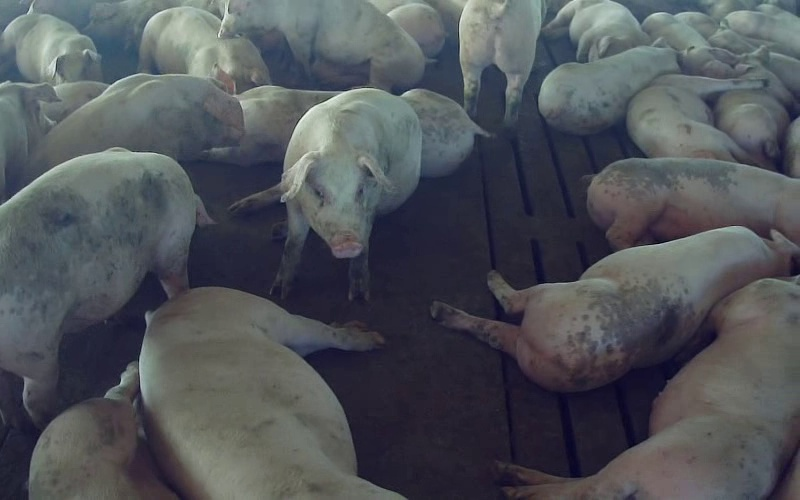pig: (500, 279, 799, 499), (431, 227, 799, 390), (0, 148, 210, 425), (139, 287, 403, 499), (271, 88, 420, 299), (28, 73, 243, 178), (587, 158, 799, 248), (219, 0, 424, 90), (538, 38, 679, 134), (626, 74, 765, 164), (139, 7, 270, 93), (459, 0, 544, 127), (715, 50, 794, 169), (543, 0, 650, 61), (642, 12, 734, 78)
